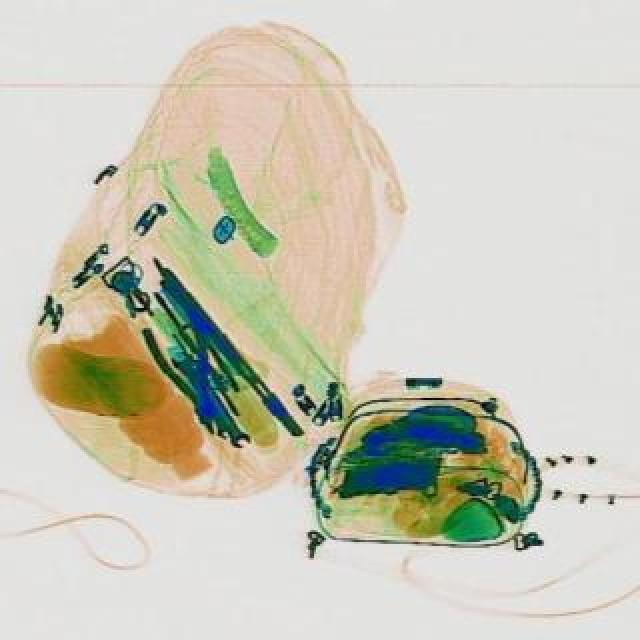scissors: (170, 344, 258, 452)
wrench: (144, 308, 246, 440)
